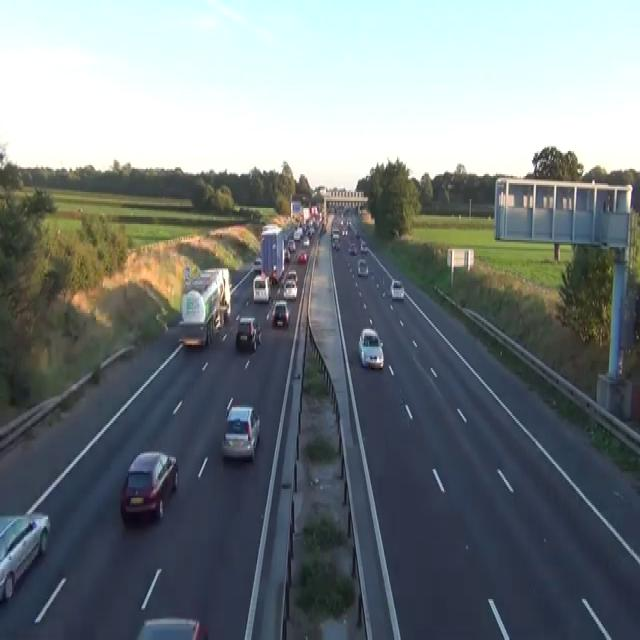Car: (0, 512, 50, 603), (119, 450, 178, 522), (221, 398, 260, 462), (135, 617, 208, 638), (358, 327, 384, 370), (235, 315, 261, 350), (177, 320, 208, 347), (272, 299, 290, 327), (390, 277, 404, 299), (283, 277, 297, 299), (155, 311, 168, 333), (357, 258, 368, 276), (265, 302, 274, 320), (286, 270, 297, 284), (297, 251, 308, 263), (331, 235, 340, 249), (270, 265, 277, 283), (347, 242, 357, 254), (253, 256, 261, 270), (287, 238, 295, 251), (283, 247, 290, 261), (293, 228, 301, 240), (319, 222, 326, 235), (360, 240, 367, 252), (341, 226, 348, 236), (331, 228, 339, 236), (303, 237, 309, 246), (259, 217, 265, 226), (355, 228, 360, 236)
Truck: (177, 266, 231, 346), (260, 224, 284, 283), (252, 274, 271, 302)
